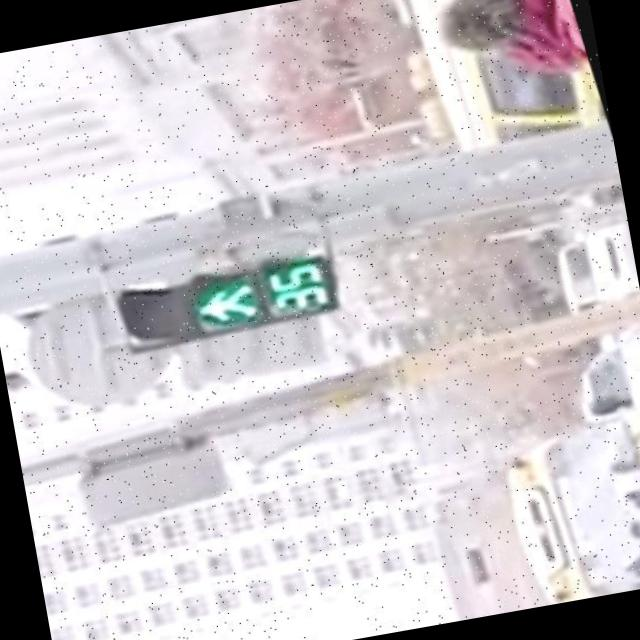green_light: (186, 249, 337, 339)
